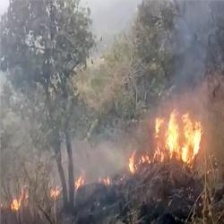fire: (123, 108, 206, 178), (2, 185, 73, 213)
